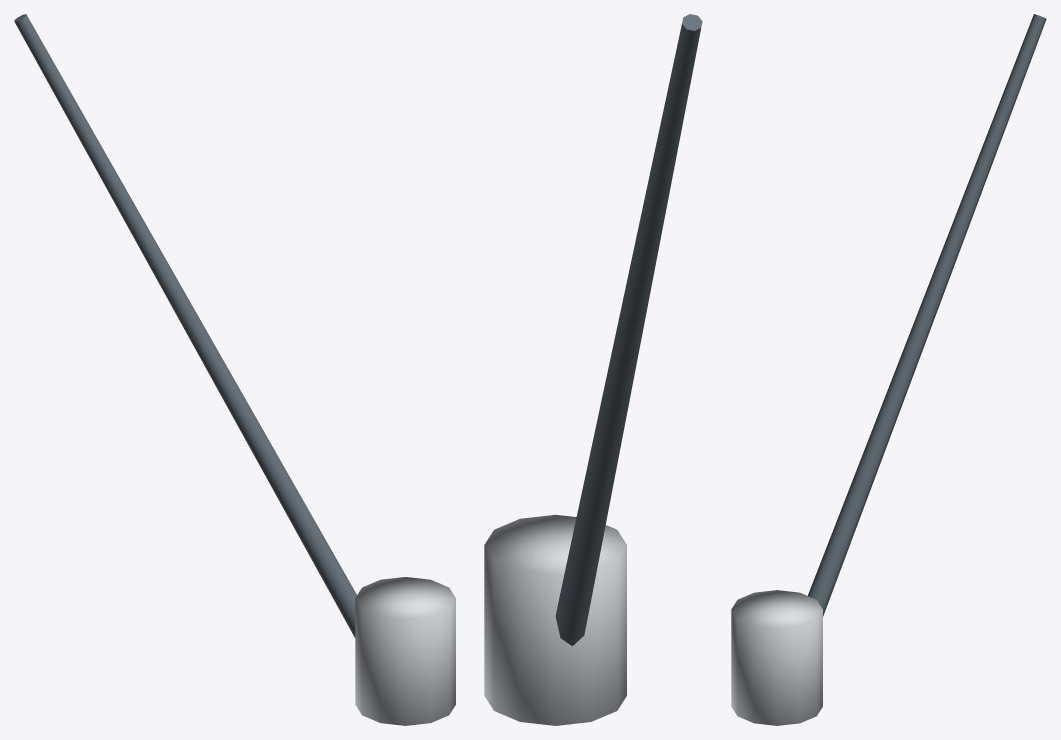
The model's file is eagle_antennas.vhf_02.glb.
3 renders of one model, left to right at view 1: azimuth 30°, elevation 25°; view 2: azimuth 150°, elevation 25°; view 3: azimuth 270°, elevation 25°, orthographic. The views are drawn at different scales.
Parts seen in each view (by area): view 1: eagle_antennas.vhf_02.mesh; view 2: eagle_antennas.vhf_02.mesh; view 3: eagle_antennas.vhf_02.mesh.
Boxes of the visible parts, left/top/right/bottom form: eagle_antennas.vhf_02.mesh: left=14, top=14, right=455, bottom=725; eagle_antennas.vhf_02.mesh: left=484, top=14, right=702, bottom=725; eagle_antennas.vhf_02.mesh: left=731, top=14, right=1046, bottom=725.
Size of the model in its own units: 0.3136 by 0.6694 by 0.3235.
